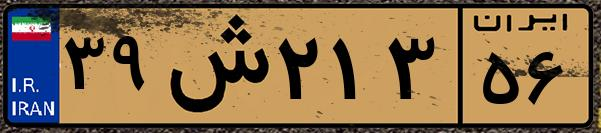1: (330, 28, 385, 110)
2: (270, 28, 330, 110)
3: (385, 28, 445, 110), (57, 26, 110, 100)
5: (475, 38, 525, 113)
6: (525, 38, 570, 115)
9: (110, 28, 158, 98)
ش: (158, 12, 270, 120)
